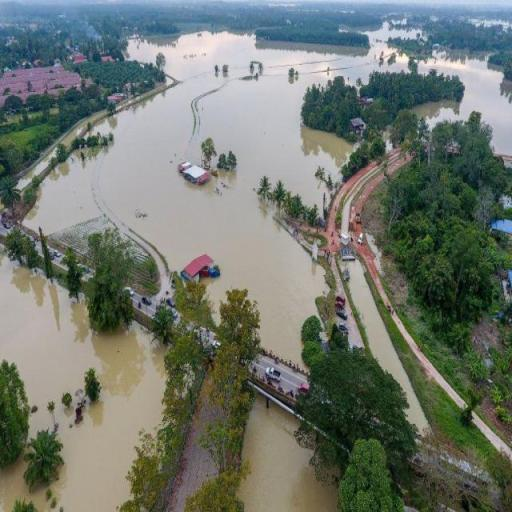flood: (22, 29, 512, 361), (0, 249, 166, 512), (349, 261, 429, 428), (239, 397, 338, 512)
house: (179, 248, 220, 288), (180, 163, 211, 188)
